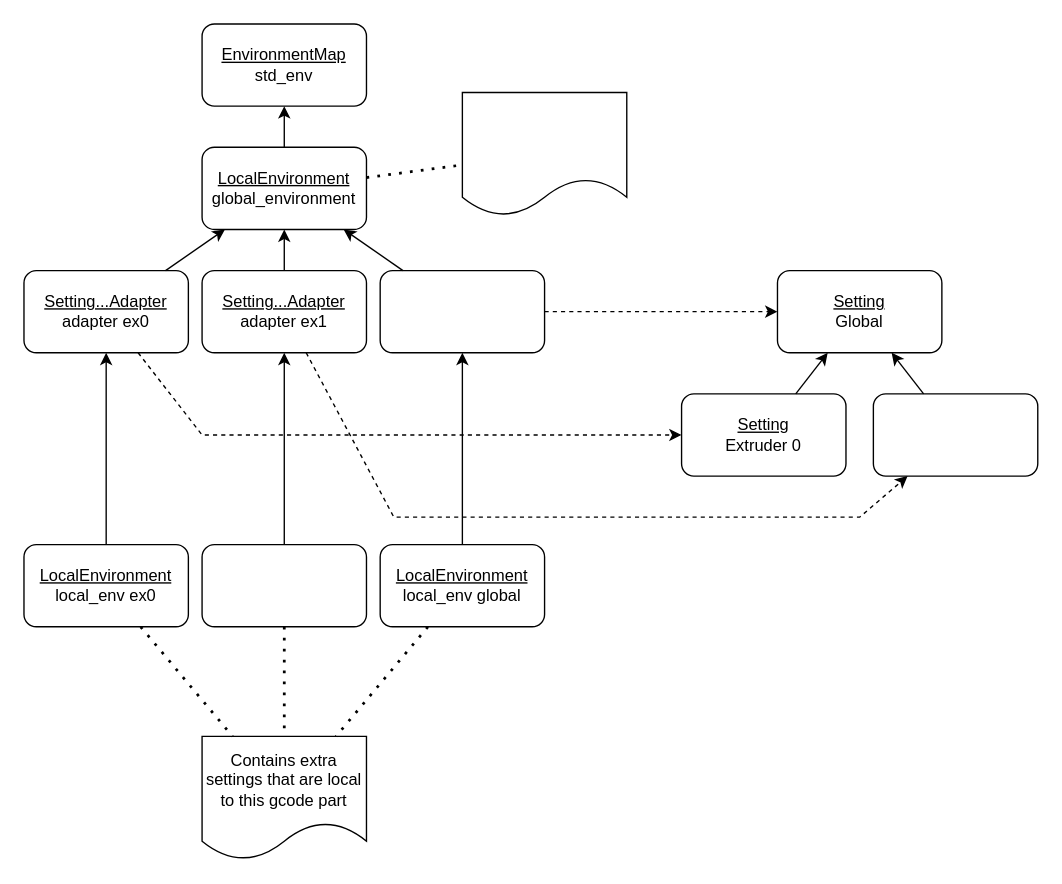
The diagram is 1062 pixels wide and 884 high, and some of its shapes have lost their labels. The box of each missing label's shape, as (x1, y1, x2, y2) in pixels:
Contains extra settings that are global to the whole print: (461, 91, 627, 216)
LocalEnvironment local_env ex1: (201, 543, 366, 627)
Setting Extruder 1: (872, 393, 1038, 476)
Setting...Adapter adapter global: (379, 269, 545, 353)
